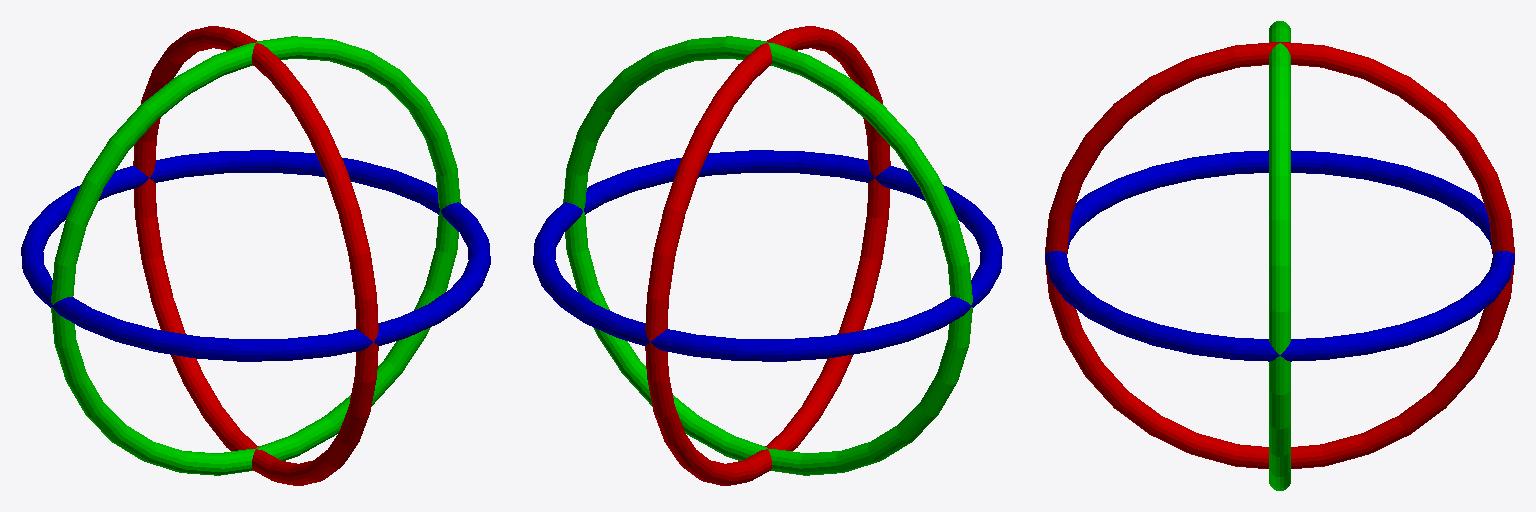
Rendered from rotate.obj.
The picture shows the model from 3 angles: view 1: azimuth 30°, elevation 25°; view 2: azimuth 150°, elevation 25°; view 3: azimuth 270°, elevation 25°; orthographic projection.
Parts seen in each view (by area): view 1: Torus, Torus.002, Torus.001; view 2: Torus, Torus.002, Torus.001; view 3: Torus.002, Torus.001, Torus.
Part boxes in pixels (left/top/right/bottom): Torus: left=51, top=36, right=460, bottom=475; Torus.002: left=133, top=26, right=378, bottom=485; Torus.001: left=21, top=150, right=490, bottom=361; Torus: left=563, top=36, right=972, bottom=475; Torus.002: left=645, top=26, right=890, bottom=485; Torus.001: left=533, top=150, right=1002, bottom=361; Torus.002: left=1045, top=42, right=1514, bottom=468; Torus.001: left=1045, top=150, right=1514, bottom=361; Torus: left=1269, top=21, right=1290, bottom=490.
Size of the model in its own units: 2.1 by 2.1 by 2.1.